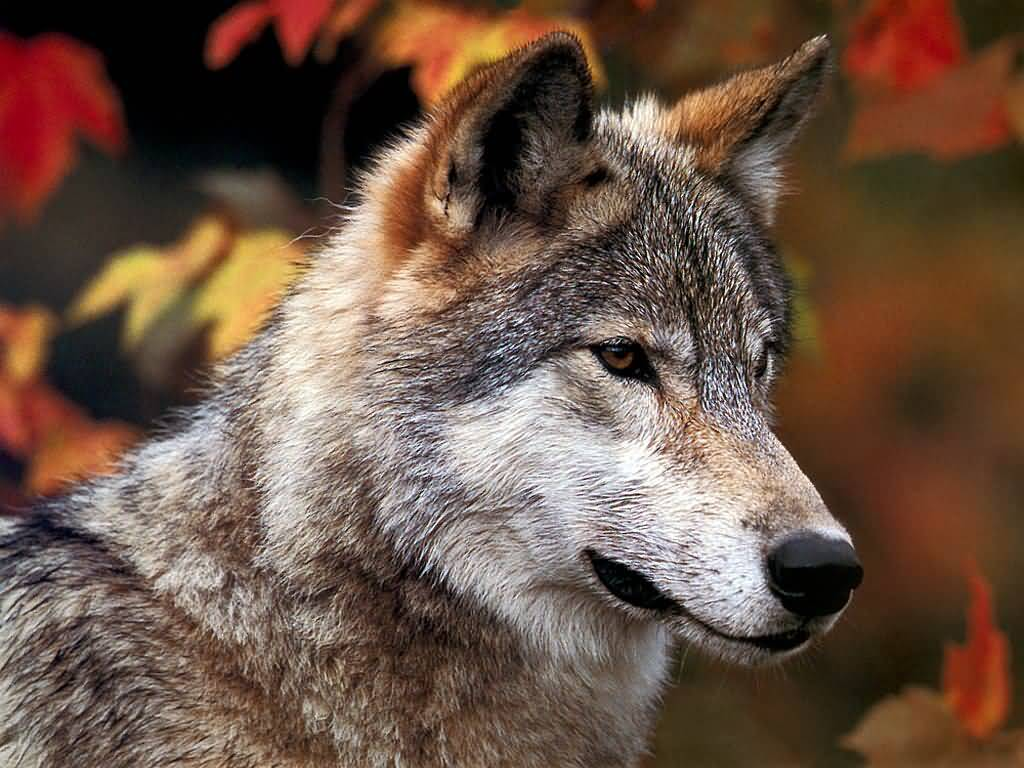wolf: (1, 26, 879, 746)
